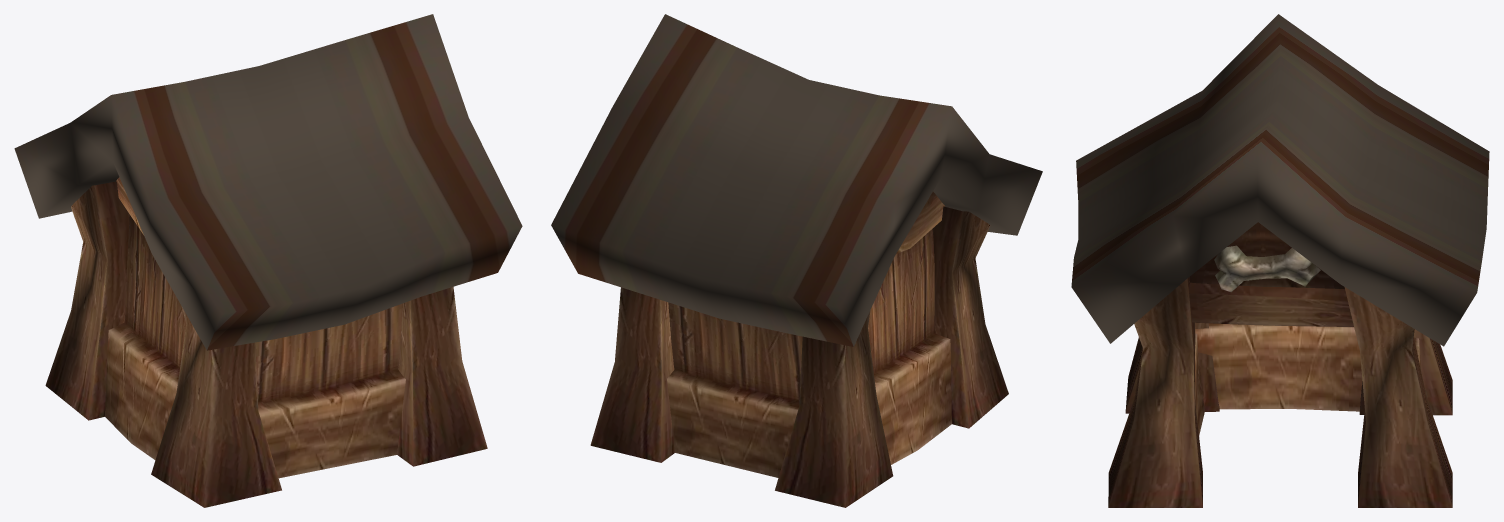
The picture shows the model from 3 angles, left to right: view 1: azimuth 30°, elevation 25°; view 2: azimuth 150°, elevation 25°; view 3: azimuth 270°, elevation 25°; orthographic projection. The views are drawn at different scales.
Bounding box in the file's own units: 1.35 × 1.49 × 1.54.
Materials: 3 (3 with a texture image).
